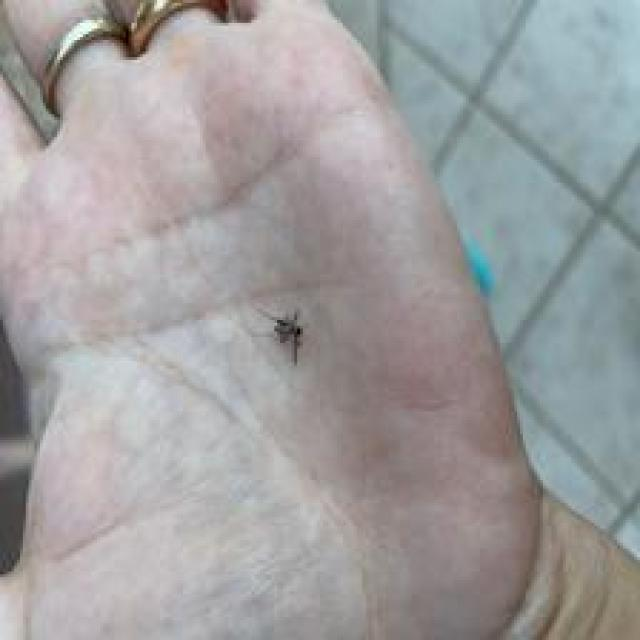Aedes albopictus: (254, 306, 306, 366)
